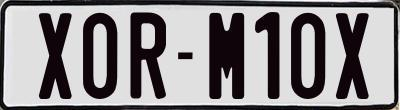0: (291, 13, 330, 102), (82, 11, 117, 97)
1: (253, 10, 280, 98)
M: (209, 11, 244, 103)
R: (127, 9, 167, 101)
X: (335, 11, 374, 98), (36, 10, 69, 102)
